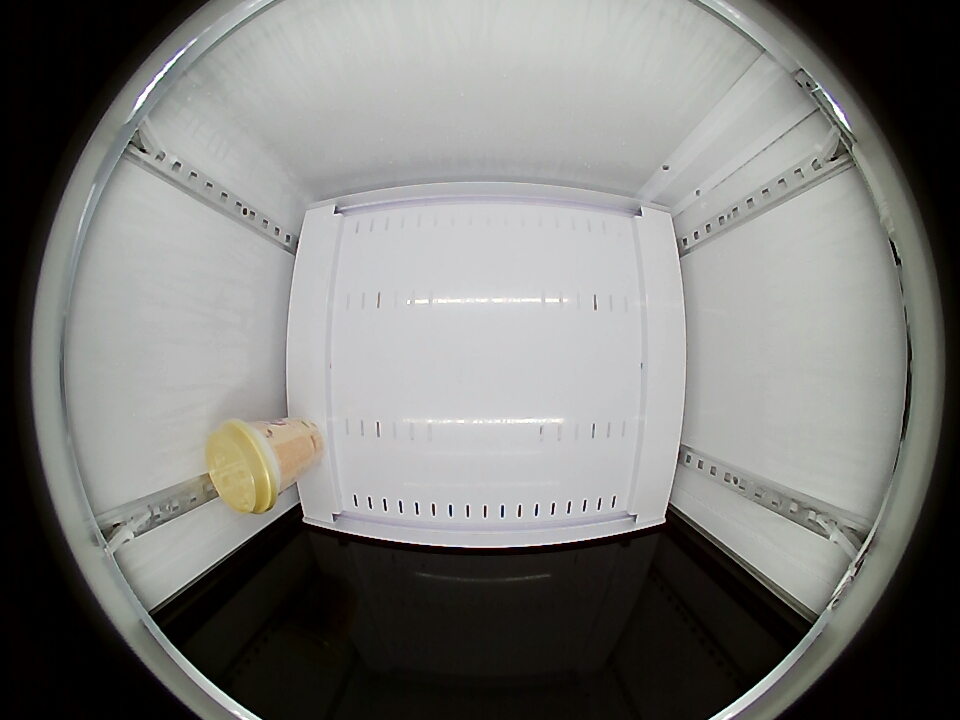youlemei: (207, 418, 287, 514)
